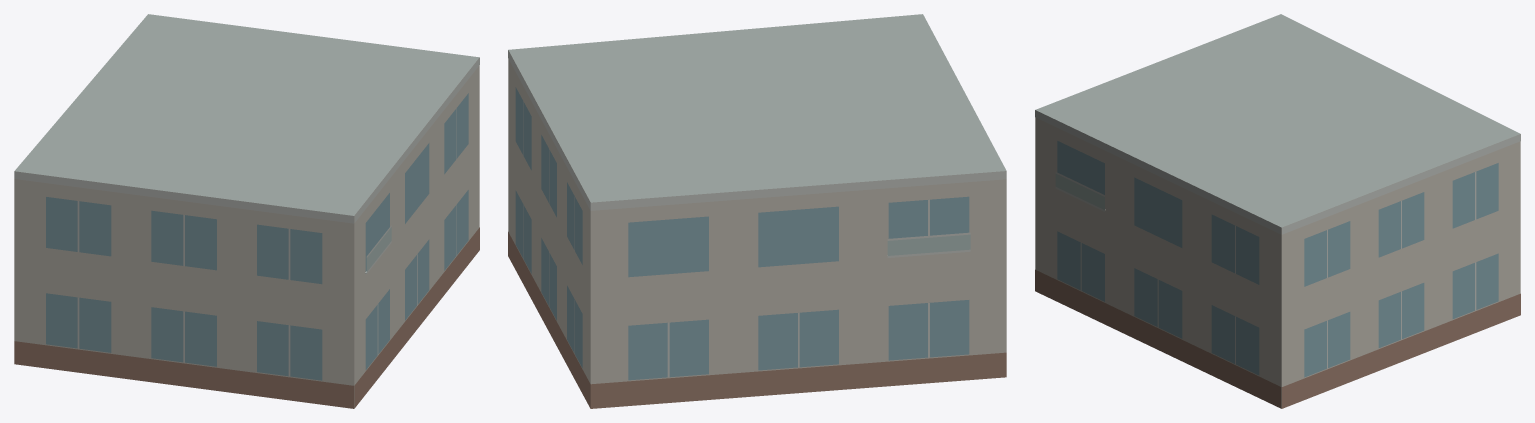
The model's file is survey-upis-32821263.glb.
3 renders of one model, left to right at view 1: azimuth 30°, elevation 25°; view 2: azimuth 150°, elevation 25°; view 3: azimuth 270°, elevation 25°, orthographic. The views are drawn at different scales.
Parts seen in each view (by area): view 1: survey-upis-32821263.tmp; view 2: survey-upis-32821263.tmp; view 3: survey-upis-32821263.tmp.
Boxes of the visible parts, left/top/right/bottom form: survey-upis-32821263.tmp: left=14, top=14, right=479, bottom=408; survey-upis-32821263.tmp: left=508, top=14, right=1006, bottom=408; survey-upis-32821263.tmp: left=1035, top=14, right=1520, bottom=408.
Size of the model in its own units: 15.42 by 6.1 by 14.82.
